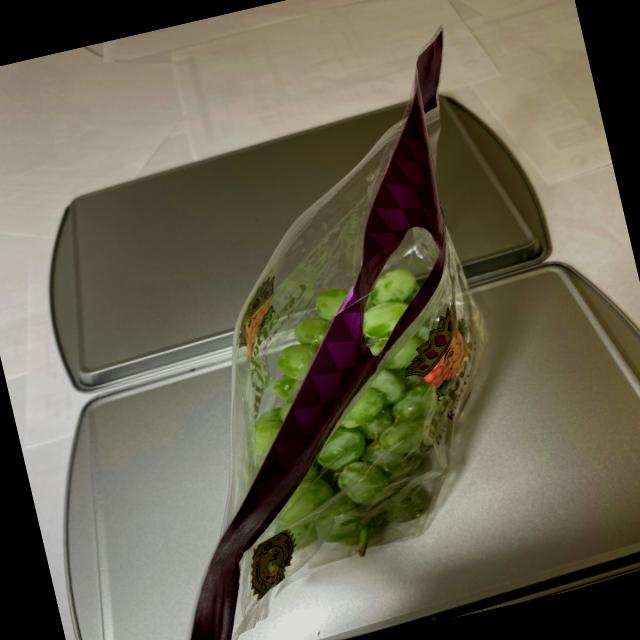grapes: (208, 238, 490, 569)
